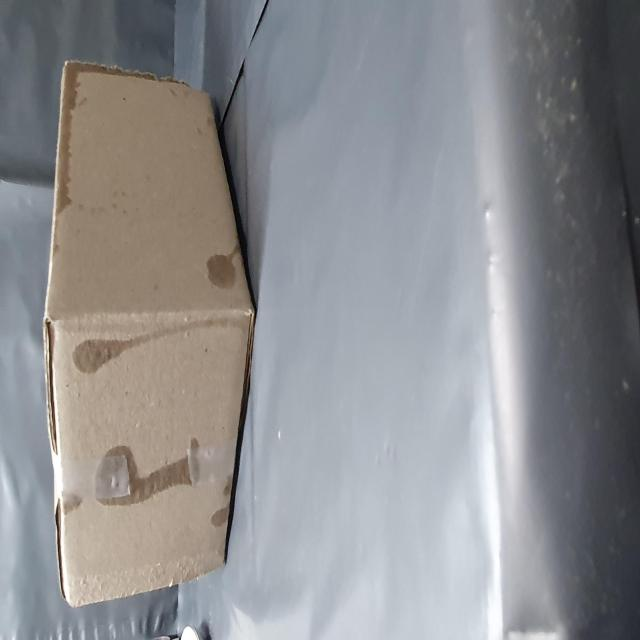wet: (68, 165, 122, 353), (235, 84, 331, 159), (144, 121, 182, 234), (192, 361, 230, 428)
